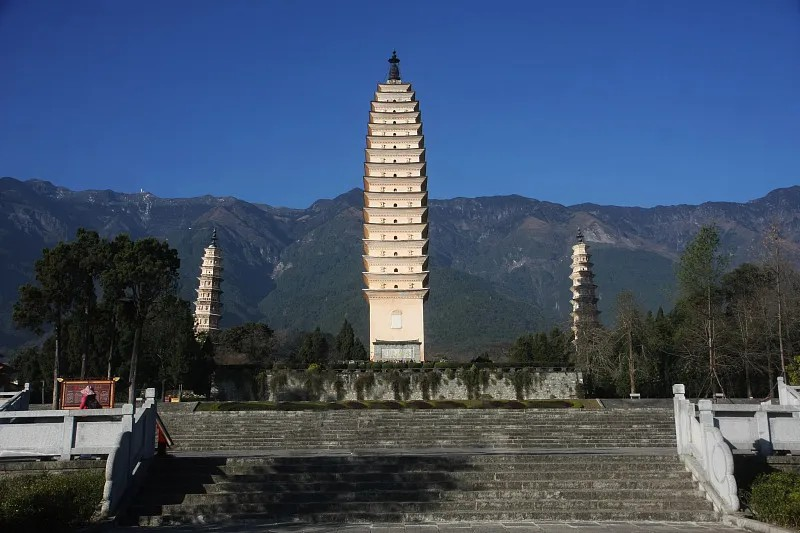ThreePagoda: (361, 50, 430, 362)
